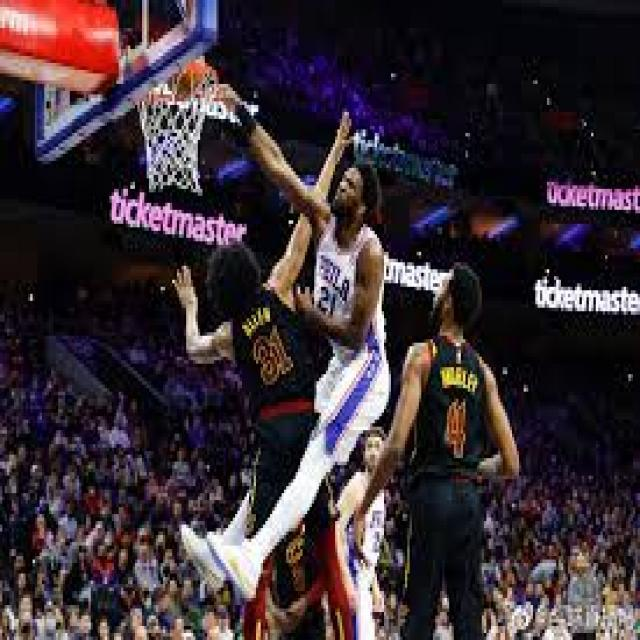rim: (168, 27, 208, 94)
